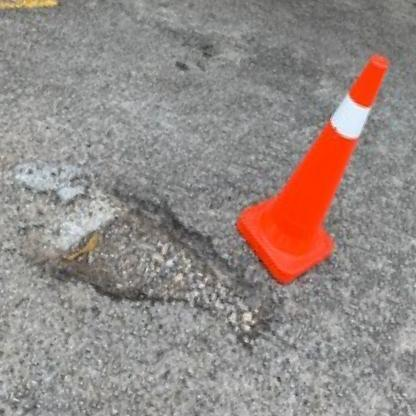pothole: (11, 190, 288, 356)
